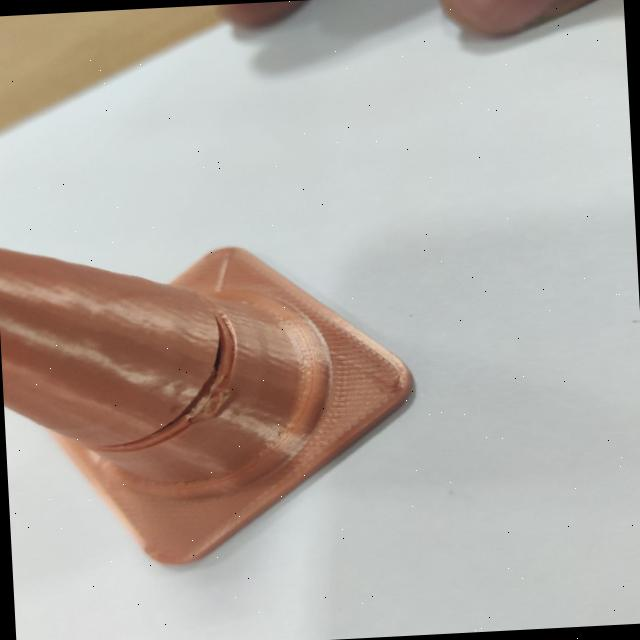cracks: (68, 310, 262, 471)
